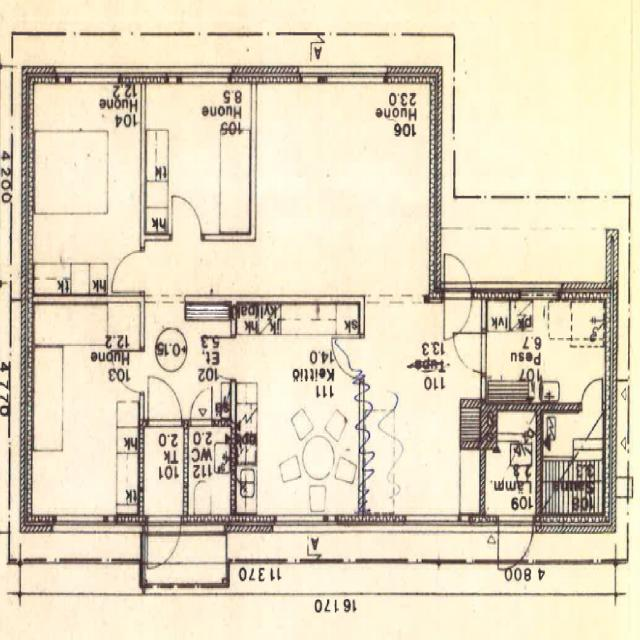door: (498, 514, 532, 578), (148, 514, 180, 576), (148, 372, 181, 426), (443, 282, 471, 337), (443, 244, 471, 298), (109, 250, 145, 292), (109, 350, 145, 391), (171, 191, 201, 239), (201, 337, 236, 378), (452, 332, 485, 372), (190, 389, 211, 426), (581, 373, 601, 410)
